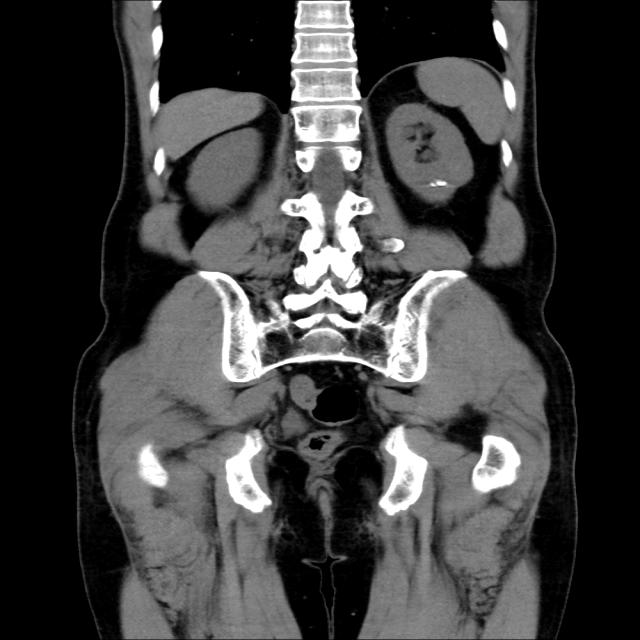kidneystone: (429, 179, 447, 188)
